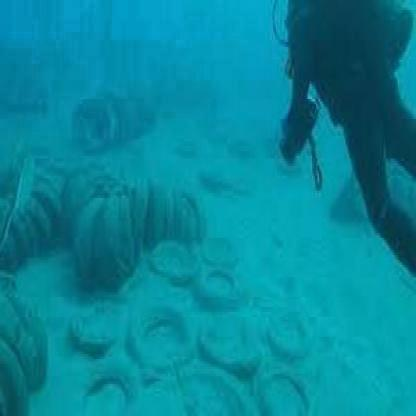tire: (67, 80, 134, 168), (102, 178, 184, 245), (66, 292, 134, 359), (74, 356, 148, 416), (146, 294, 200, 372), (197, 260, 248, 317)
